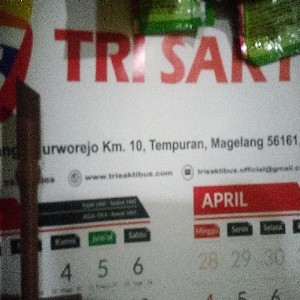cutter: (15, 73, 43, 300)
